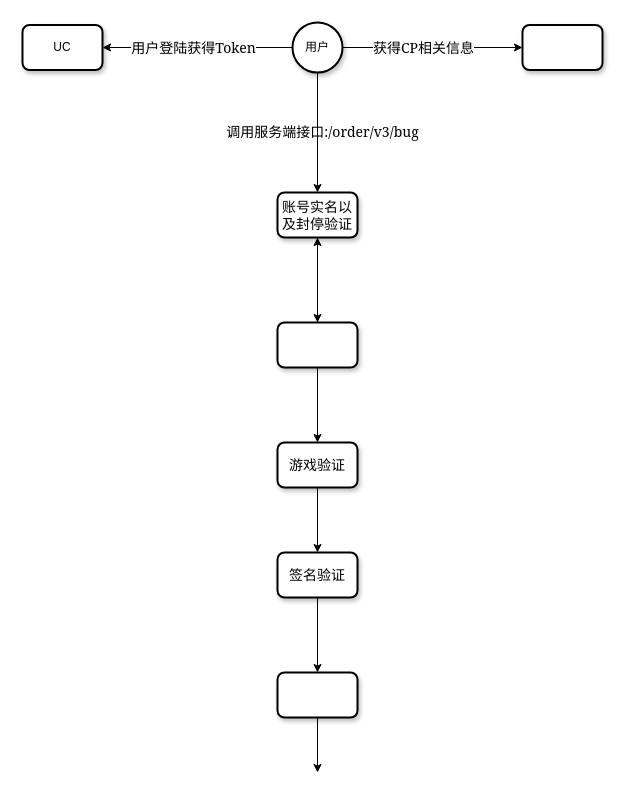
Some shapes in this 626 by 798 pixel diagram are drawn without their labels. Here are the shapes that lost their labels. From the top down, the centre of each, then its label:
At point (563, 49): "SDK".
At point (318, 346): "订单 验证".
At point (318, 696): "支付渠道黑名单过滤".
